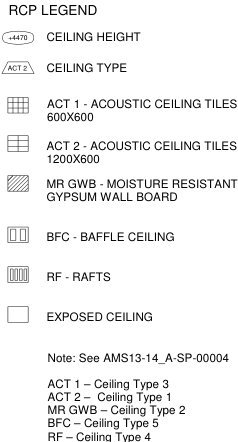hatch: (0, 59, 38, 79), (0, 29, 37, 47), (5, 94, 33, 117), (3, 132, 32, 154), (4, 264, 31, 285), (5, 224, 31, 245), (6, 173, 31, 194), (5, 304, 31, 324)
label: (44, 94, 237, 124), (43, 176, 238, 205), (45, 136, 237, 164), (42, 227, 177, 245), (43, 307, 155, 324), (43, 27, 143, 44), (44, 58, 130, 75), (44, 268, 117, 286)
